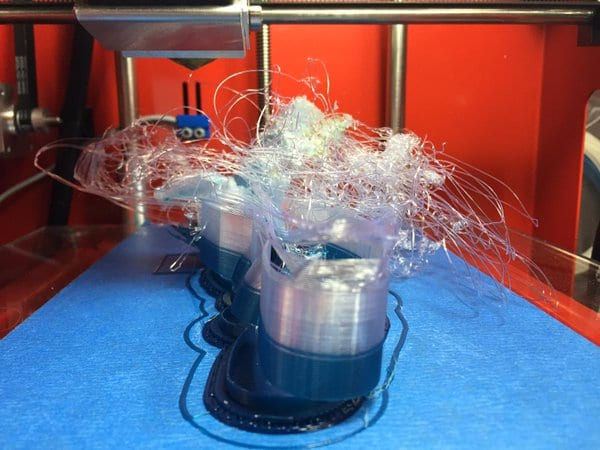Fail: (92, 72, 544, 419)
